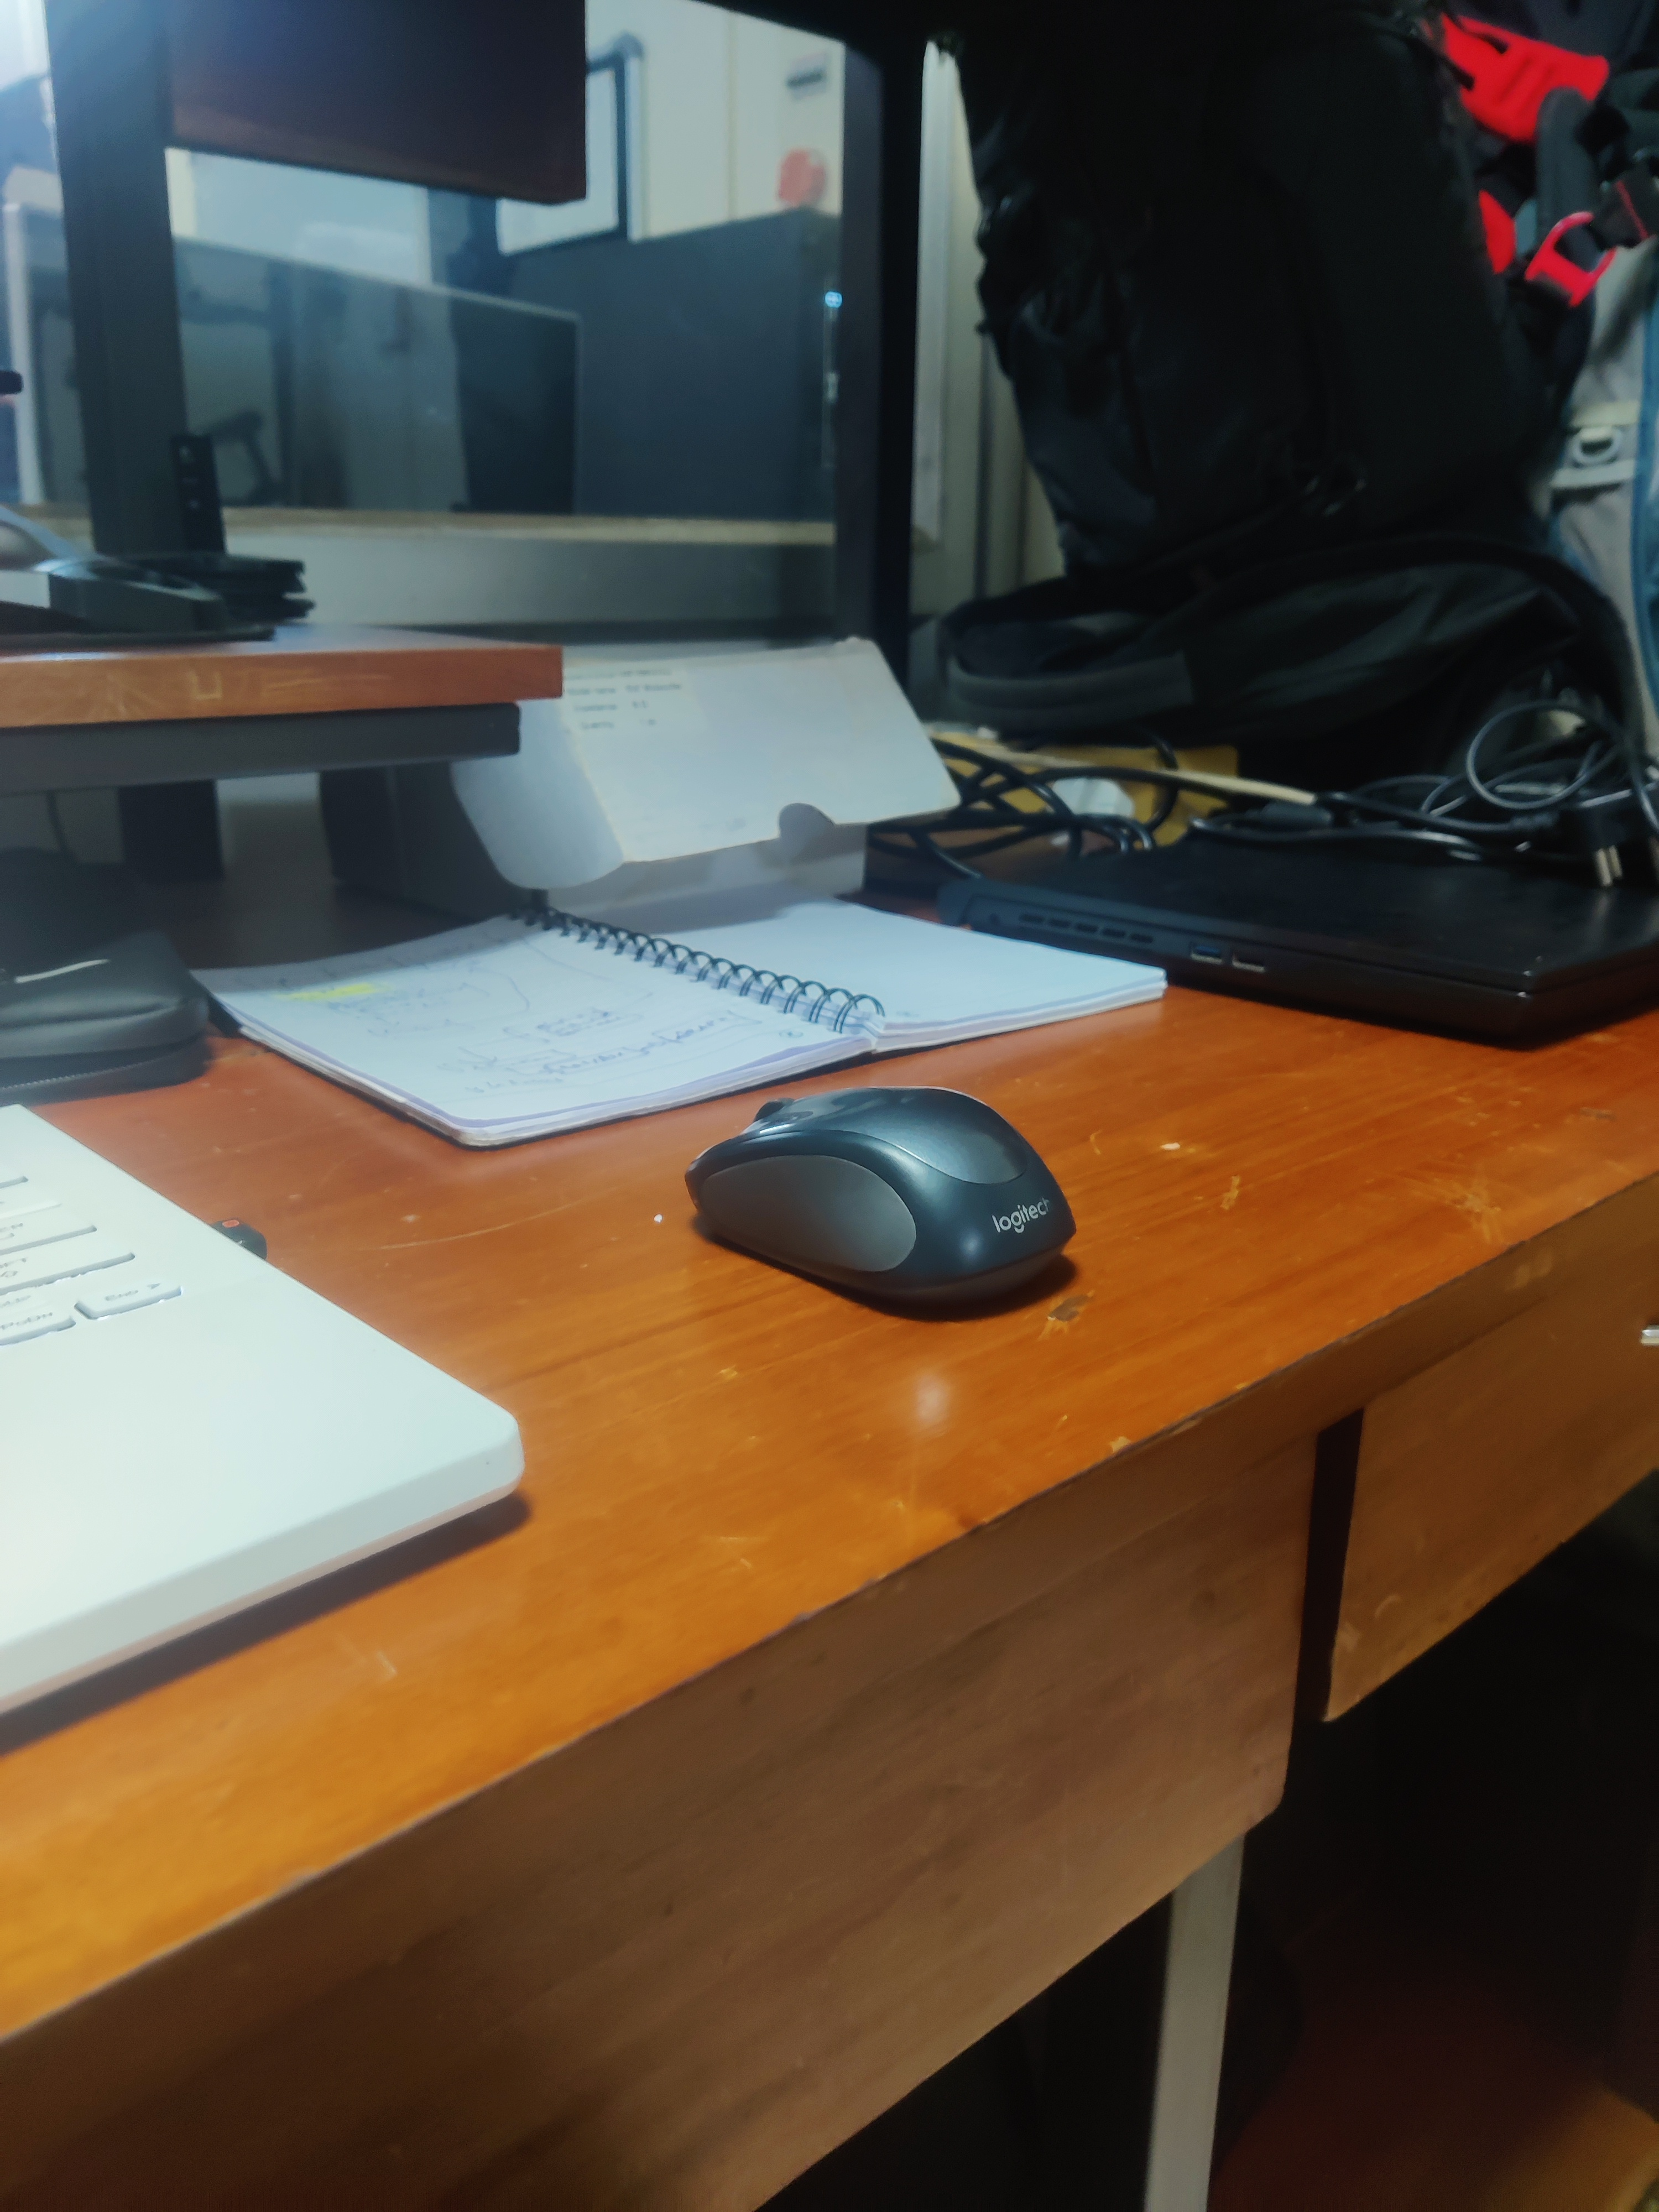logitechMouse: (678, 1083, 1084, 1324)
